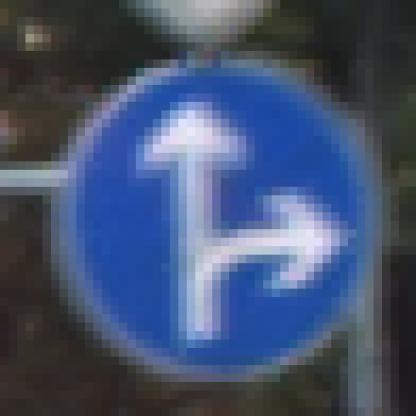Straight or Right: (52, 52, 374, 366)
